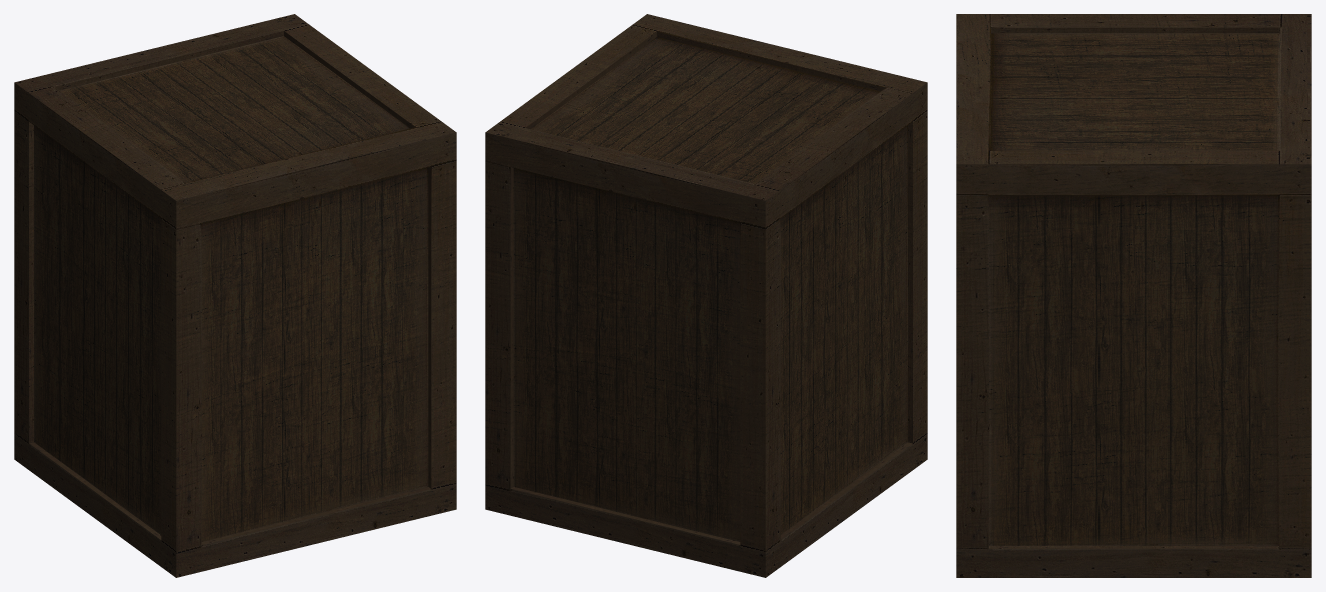
The model's file is wooden_crate_hx_2_1.glb.
3 views of the same model, side by side, from view 1: azimuth 30°, elevation 25°; view 2: azimuth 150°, elevation 25°; view 3: azimuth 270°, elevation 25° (orthographic). The views are drawn at different scales.
Parts seen in each view (by area): view 1: wooden_crate_hx_2_1; view 2: wooden_crate_hx_2_1; view 3: wooden_crate_hx_2_1.
Boxes of the visible parts, x1,y1,x2,y2 form: wooden_crate_hx_2_1: [14, 14, 456, 577]; wooden_crate_hx_2_1: [485, 14, 927, 577]; wooden_crate_hx_2_1: [956, 14, 1311, 577].
Bounding box in the file's own units: 1.4 × 1.8 × 1.4.
1 material, 1 textured.
